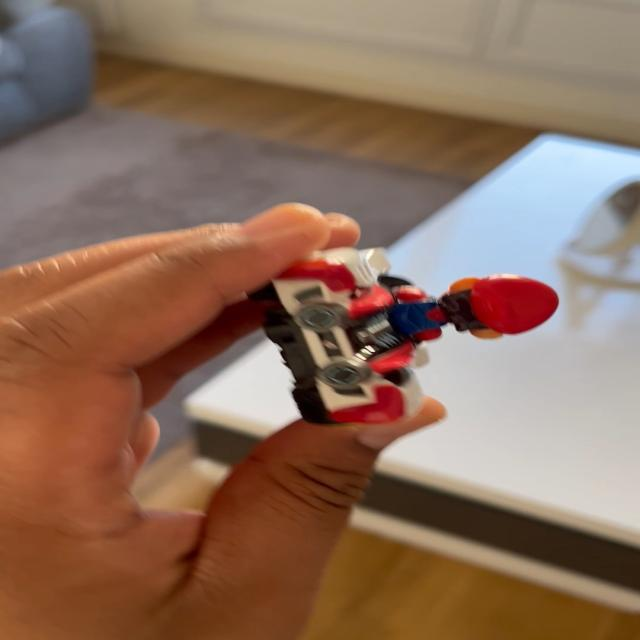mario: (232, 219, 592, 445)
